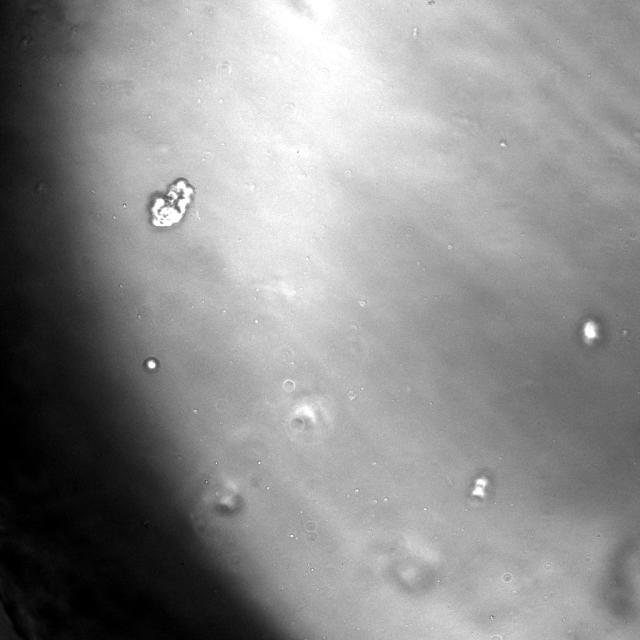organoid: (151, 178, 195, 227), (143, 356, 159, 372)
